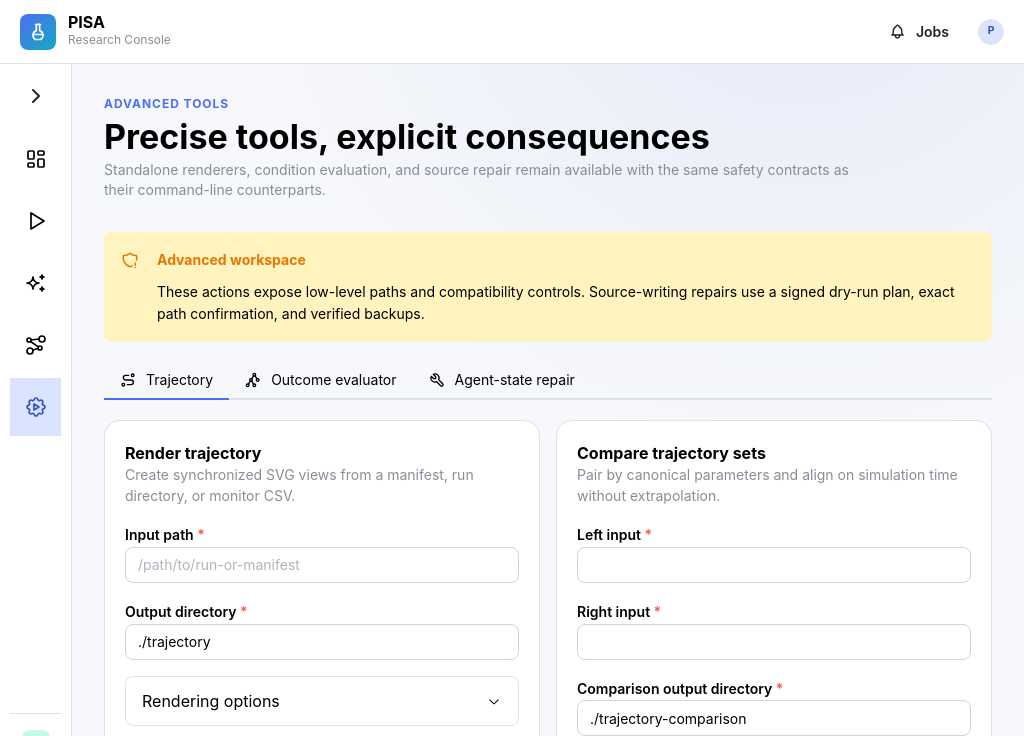
PISA Research Console › keeps advanced source repair behind an explicit workflow
Expected: the heading "Precise tools, explicit consequences" is shown, left=104, top=116, right=710, bottom=157
Click the tab "Agent-state repair" at (502,380), box left=412, top=362, right=591, bottom=400
(page scrolled)
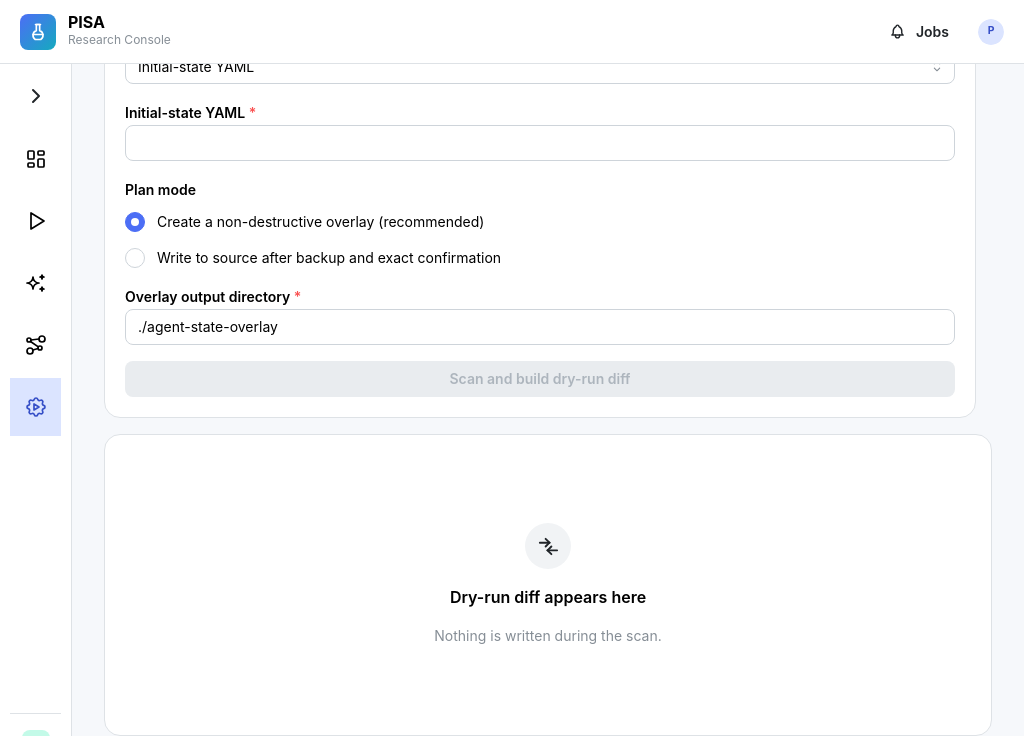
Expected: the text "Nothing is written during the scan." is shown, left=434, top=626, right=662, bottom=646
